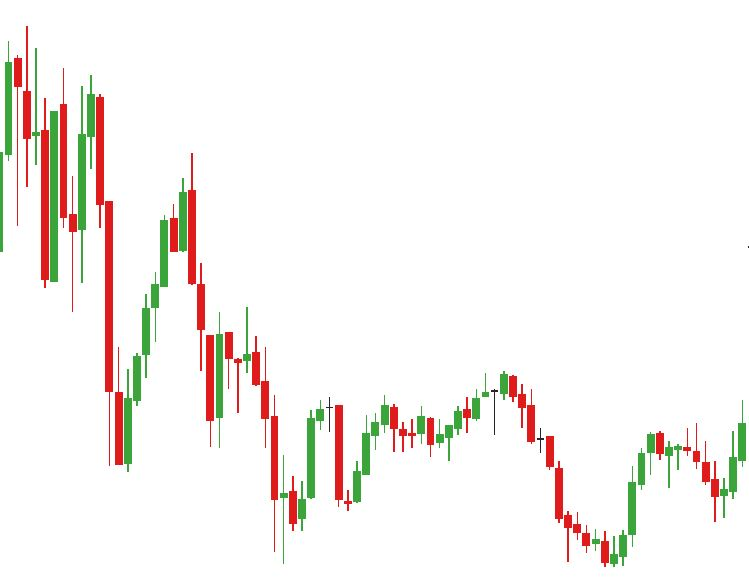buy: (114, 320, 317, 567)
